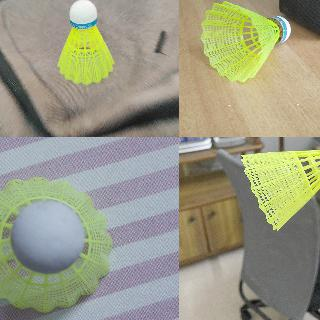shuttlecock: (0, 176, 112, 312), (241, 138, 319, 231), (201, 1, 291, 81), (57, 0, 116, 84)
